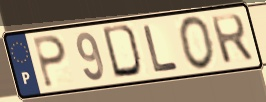9: (74, 30, 106, 82)
D: (100, 23, 146, 81)
L: (140, 23, 181, 75)
O: (177, 15, 216, 72)
P: (31, 34, 69, 90)
R: (208, 12, 256, 66)
